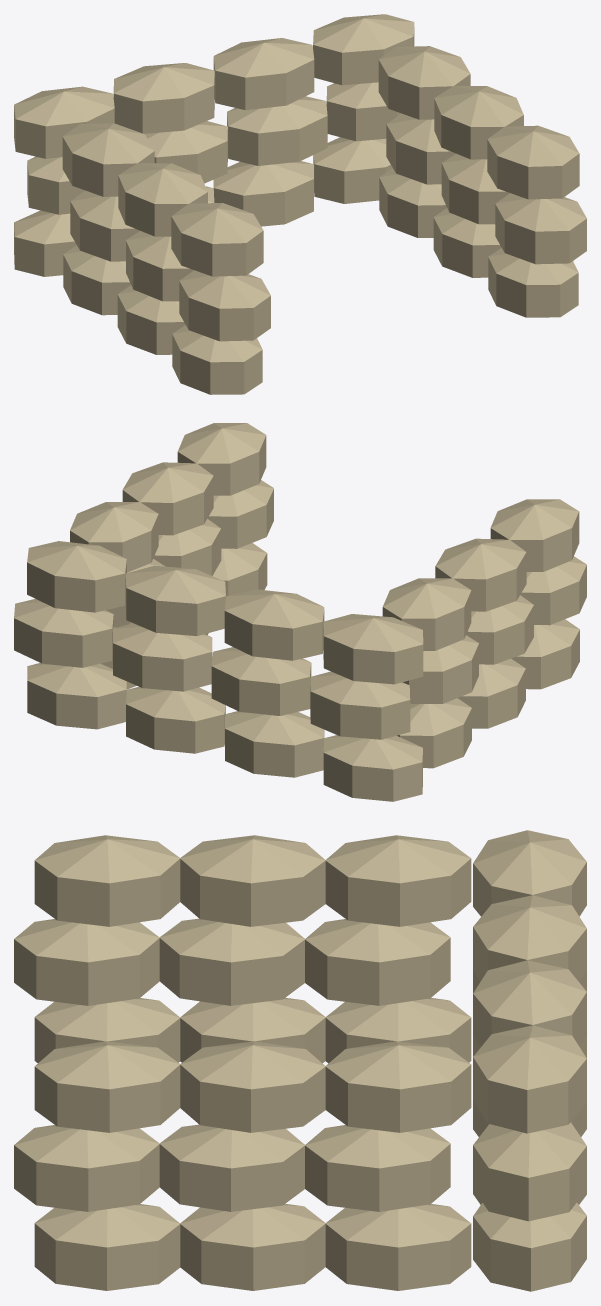
The model's file is cover_sandbags_c.glb.
3 renders of one model, top to bottom at view 1: azimuth 30°, elevation 25°; view 2: azimuth 150°, elevation 25°; view 3: azimuth 270°, elevation 25°, orthographic. The views are drawn at different scales.
Visible parts, largest first — view 1: LOD0; view 2: LOD0; view 3: LOD0.
Part boxes in pixels (box(x1,y1,x2,y2)): LOD0: box(14, 14, 586, 394); LOD0: box(14, 423, 586, 801); LOD0: box(14, 830, 586, 1291).
Size of the model in its own units: 2.48 by 1.04 by 2.23.
